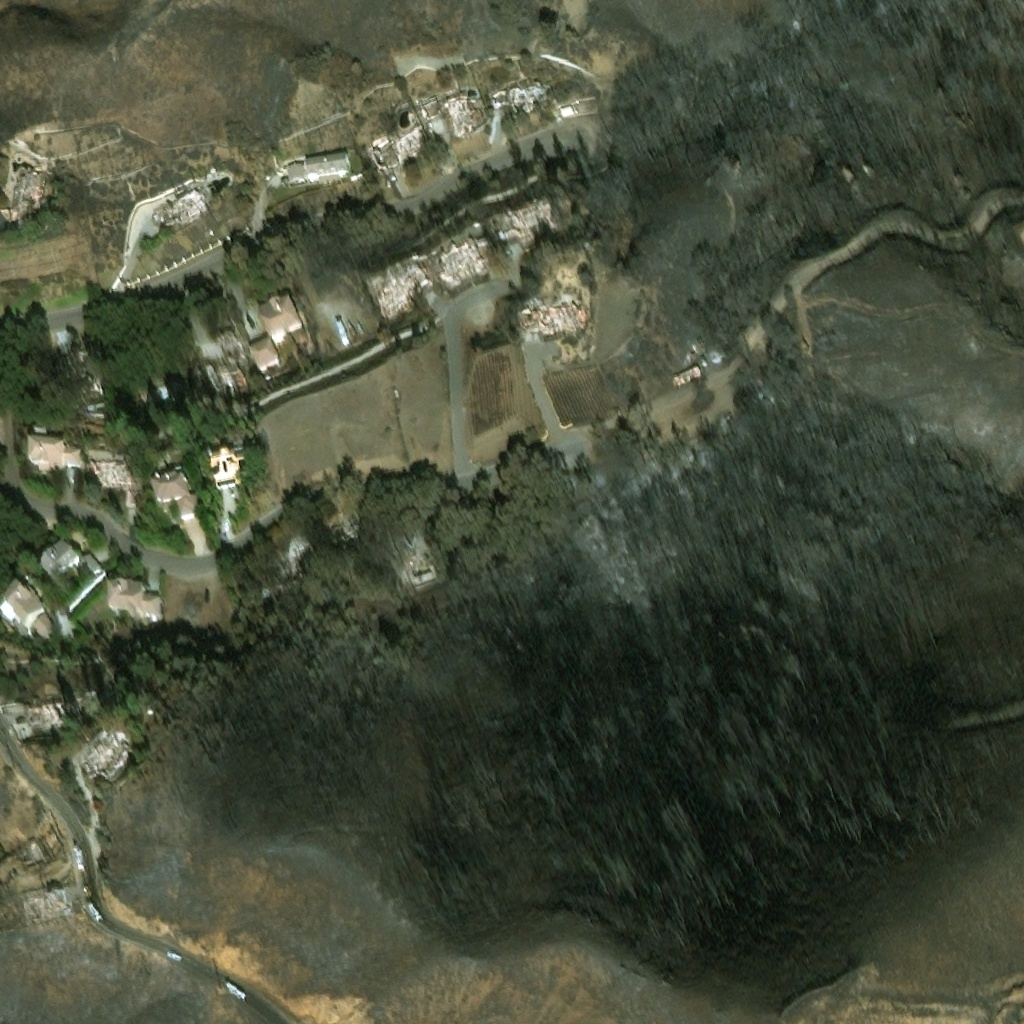0 no-damage: (0, 577, 43, 625), (106, 573, 157, 611), (37, 534, 78, 575), (255, 293, 299, 331), (28, 435, 79, 467), (149, 470, 190, 504), (210, 449, 248, 485), (305, 152, 349, 183), (243, 326, 273, 352), (76, 547, 101, 573), (166, 462, 191, 487), (30, 606, 54, 631), (285, 156, 305, 182), (176, 492, 201, 512), (556, 100, 573, 113), (160, 501, 168, 508)
2 major-damage: (0, 690, 84, 722)
3 destroyed: (489, 197, 557, 246), (364, 123, 427, 175), (82, 730, 134, 781), (372, 263, 431, 304), (435, 239, 494, 280), (155, 185, 209, 229), (441, 88, 479, 135), (539, 302, 586, 337), (191, 350, 241, 382), (506, 77, 551, 112), (20, 884, 69, 916), (32, 813, 66, 854), (326, 513, 367, 545), (88, 454, 129, 483), (16, 167, 43, 209), (404, 544, 438, 576), (13, 832, 45, 864), (56, 342, 92, 368), (440, 201, 475, 225), (482, 186, 508, 212), (417, 92, 441, 116), (282, 538, 303, 565), (521, 317, 543, 342), (470, 103, 489, 127), (539, 296, 581, 306), (196, 184, 213, 205), (11, 208, 30, 225), (79, 417, 104, 429), (122, 484, 142, 498), (521, 308, 540, 318), (125, 498, 135, 515)
